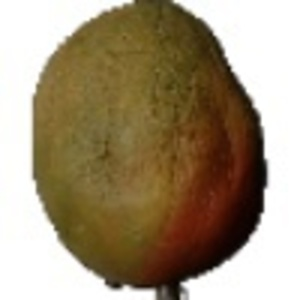mamão: (30, 3, 271, 291)
